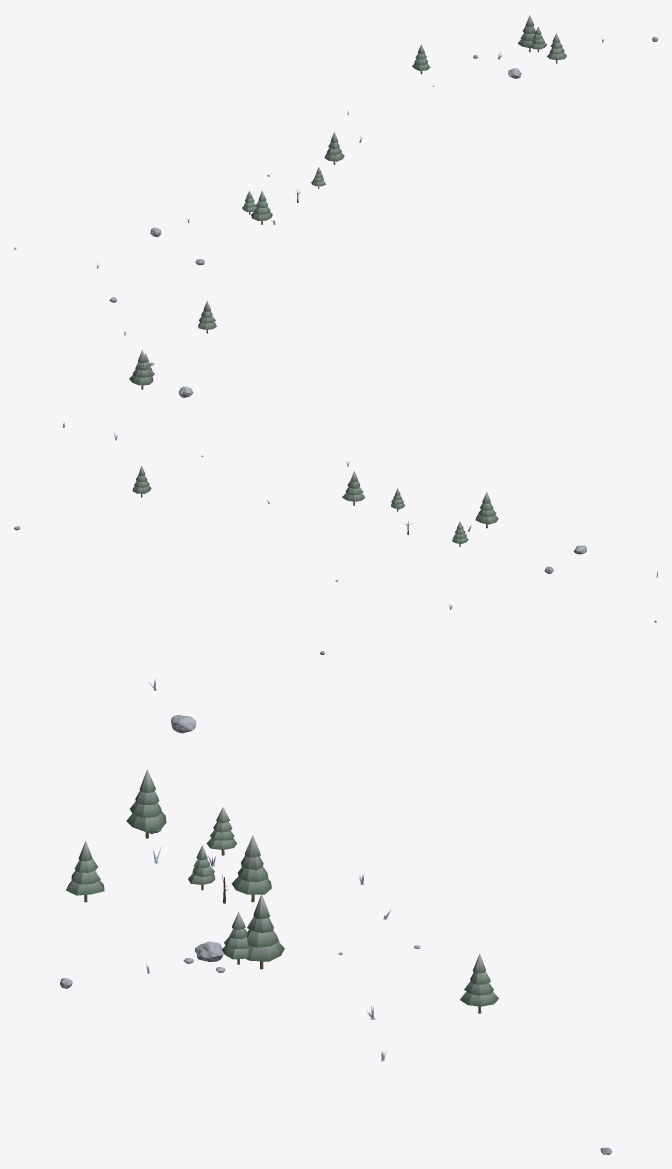
Rendered from frost_land_scatter_c13_08.glb.
3 renders of one model, top to bottom at view 1: azimuth 30°, elevation 25°; view 2: azimuth 150°, elevation 25°; view 3: azimuth 270°, elevation 25°, orthographic. The views are drawn at different scales.
Visible parts, largest first — view 1: frost_land_scatter_c13_08; view 2: frost_land_scatter_c13_08; view 3: frost_land_scatter_c13_08.
Part boxes in pixels (x1,y1,x2,y2): frost_land_scatter_c13_08: (14,15,657,268); frost_land_scatter_c13_08: (14,297,657,622); frost_land_scatter_c13_08: (60,651,611,1154).
Bounding box in the file's own units: 236 × 65.45 × 97.55.
